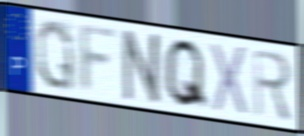F: (77, 22, 121, 97)
N: (121, 27, 165, 108)
Q: (162, 36, 210, 113), (34, 17, 77, 93)
R: (251, 47, 293, 123)
X: (210, 40, 249, 120)
